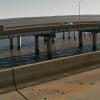Bridge: (3, 7, 95, 45)
